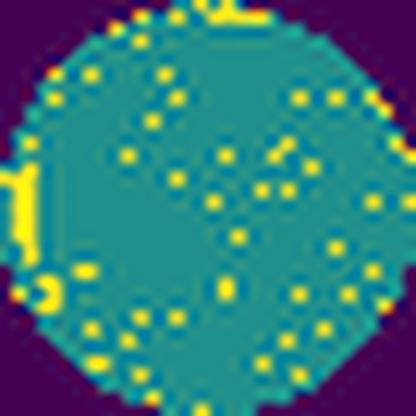Loc: (0, 162, 41, 263), (36, 272, 66, 315)
